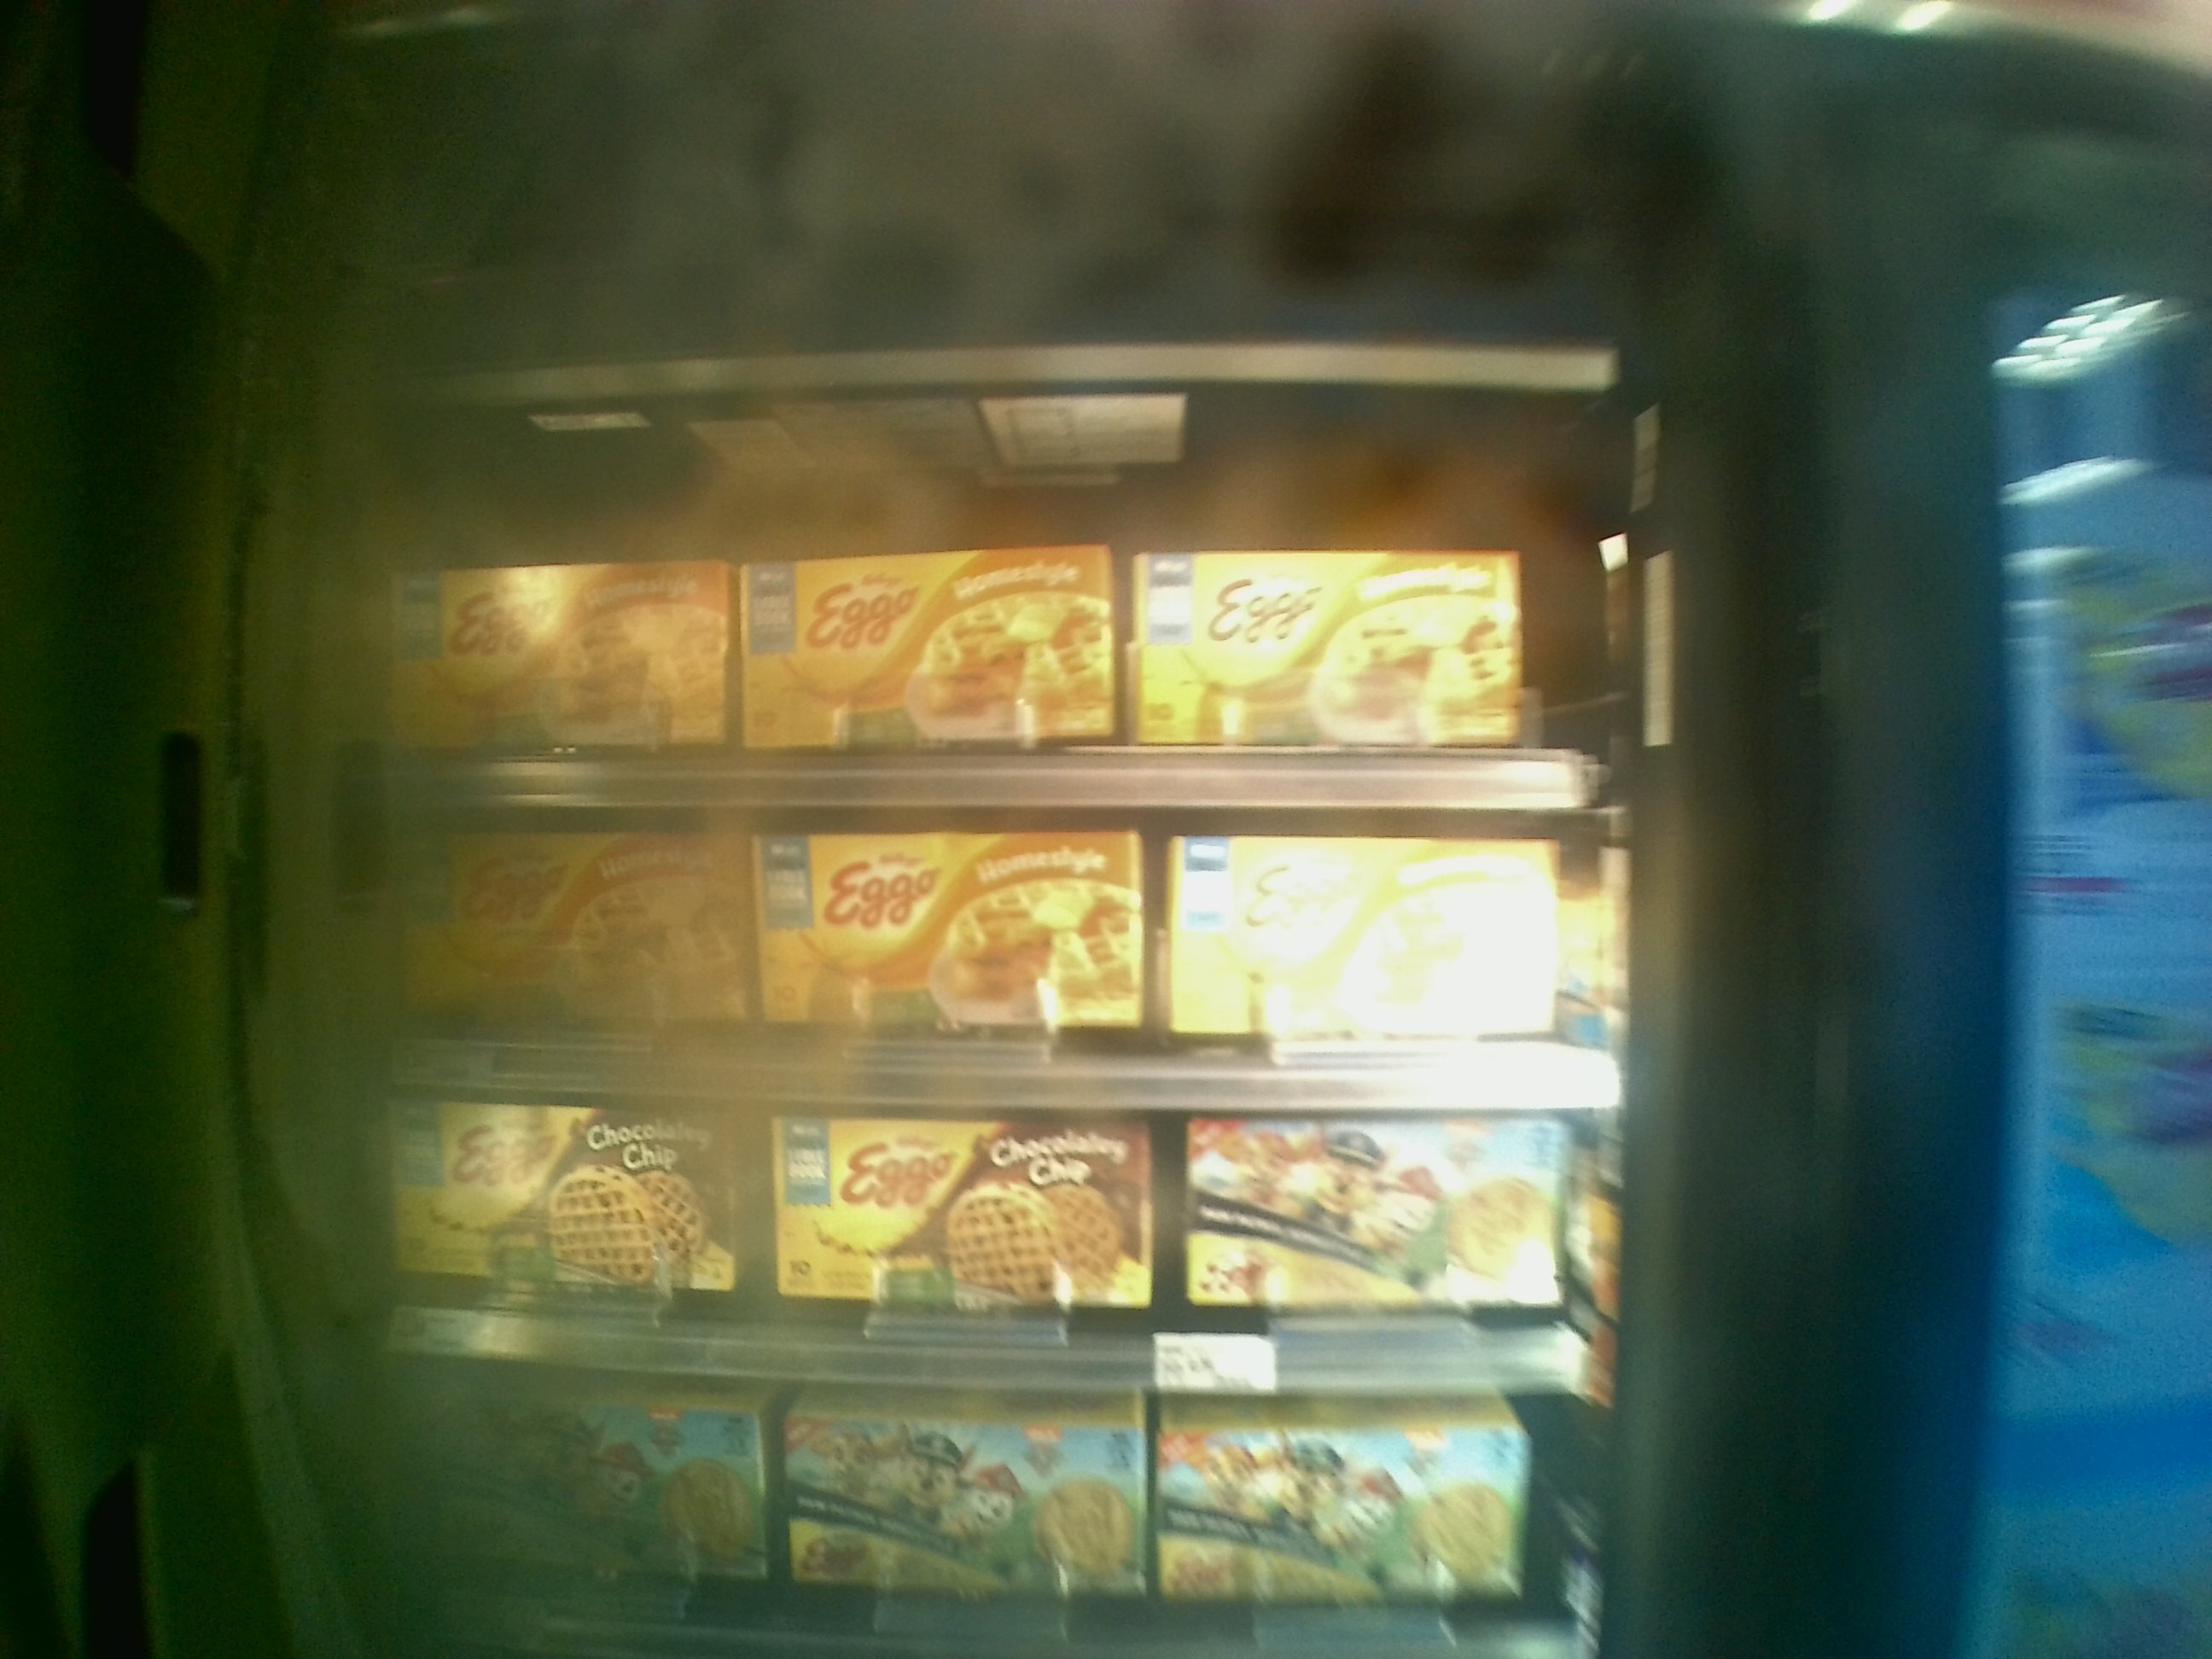shelf: (329, 357, 1618, 823)
